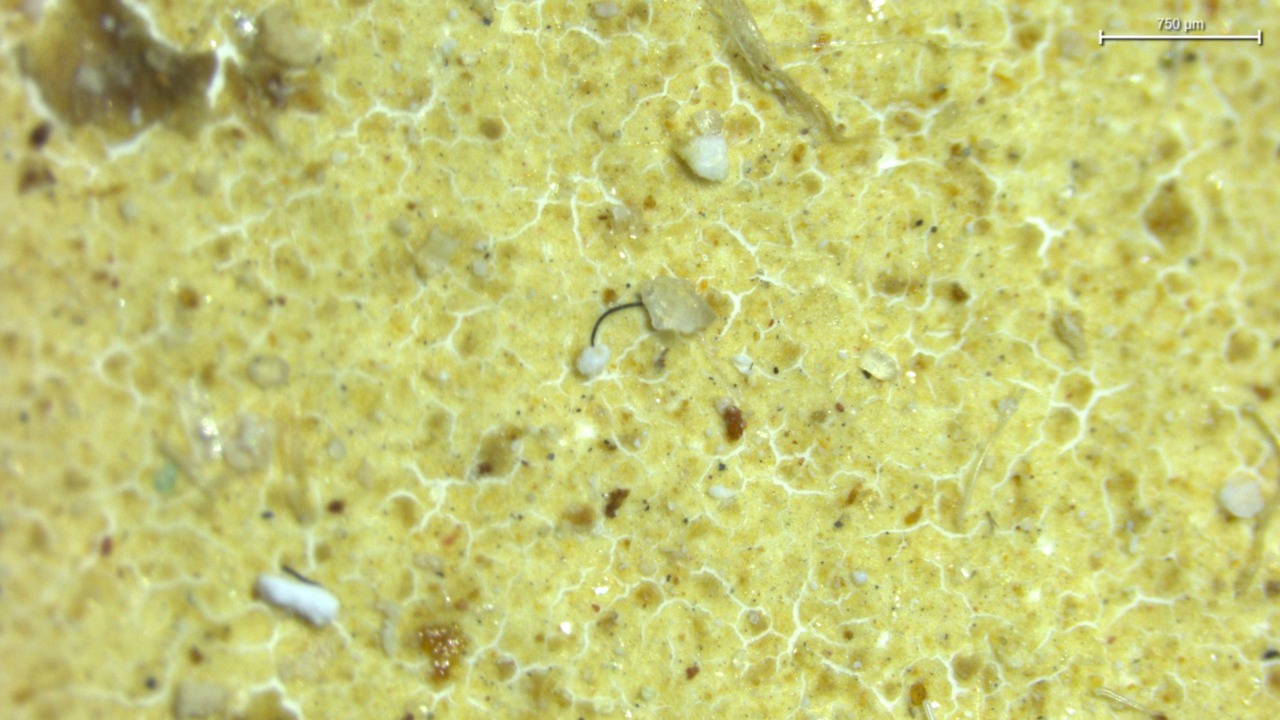microplastic_fragment: (256, 566, 339, 626), (640, 276, 716, 334), (678, 134, 728, 181), (576, 345, 610, 376)
